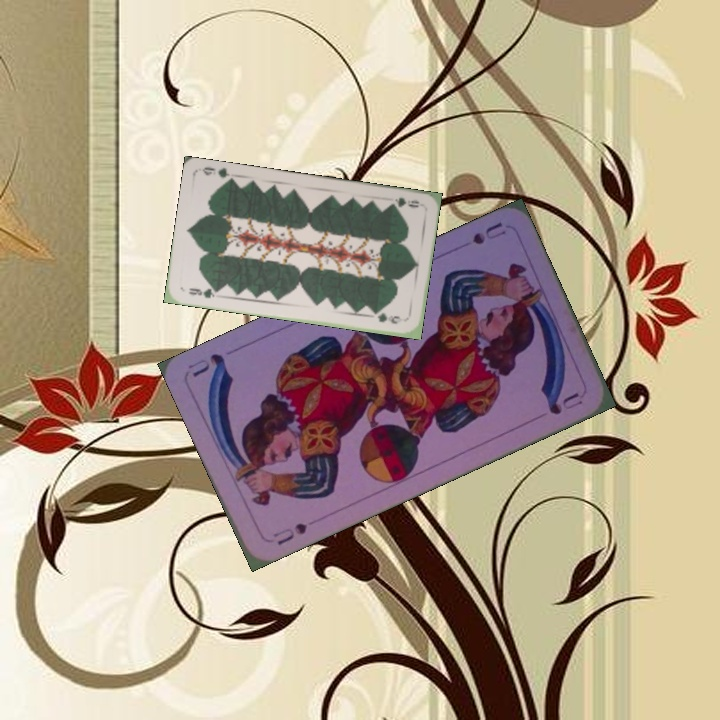G9: (184, 284, 221, 301), (385, 193, 422, 210)
SU: (268, 518, 310, 548), (468, 218, 509, 247)
